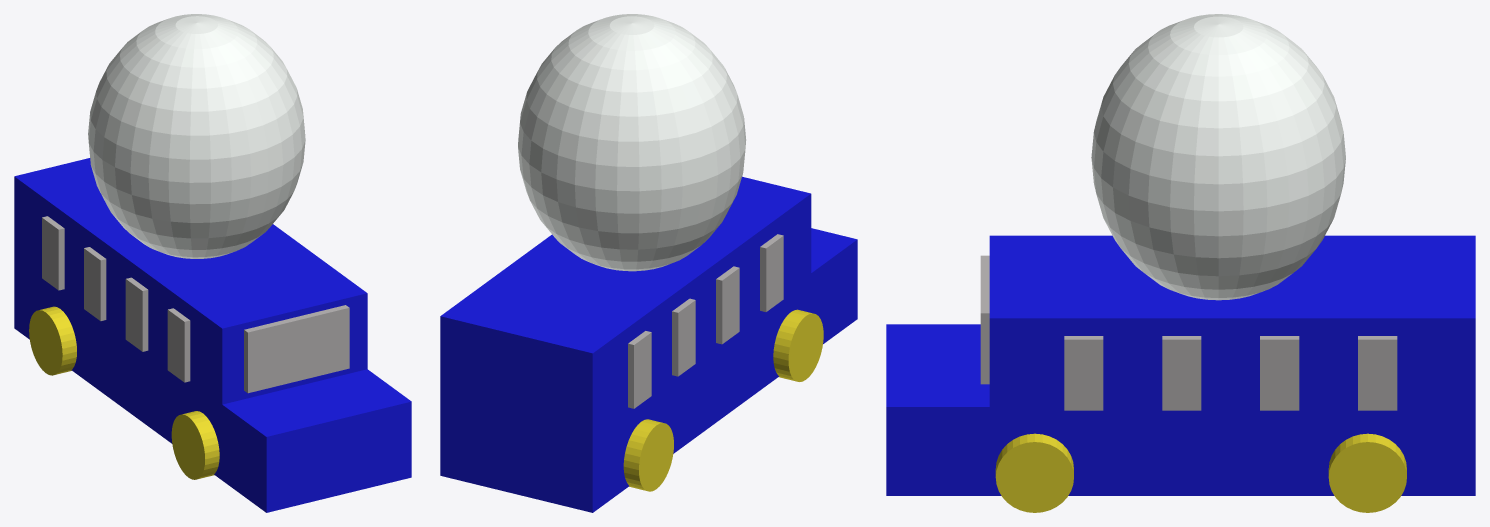
Rendered from BattleBuss.fbx.
The picture shows the model from 3 angles, left to right: view 1: azimuth 30°, elevation 25°; view 2: azimuth 150°, elevation 25°; view 3: azimuth 270°, elevation 25°; orthographic projection. The views are drawn at different scales.
Visible parts, largest first — view 1: Battle Bus Main, Sphere.001, Cube.008, Cylinder.003, Cylinder.002, Cube.006, Cube.007, Cube.004, Cube.005; view 2: Battle Bus Main, Sphere.001, Cylinder.003, Cylinder.002, Cube.005, Cube.006, Cube.004, Cube.007; view 3: Battle Bus Main, Sphere.001, Cylinder.001, Cylinder, Cube, Cube.001, Cube.002, Cube.003, Cube.008.
Boxes of the visible parts, x1,y1,x2,y2 form: Battle Bus Main: (14, 158, 411, 512); Sphere.001: (88, 14, 305, 258); Cube.008: (244, 305, 349, 393); Cylinder.003: (171, 411, 219, 479); Cylinder.002: (29, 306, 76, 375); Cube.006: (125, 277, 148, 351); Cube.007: (167, 308, 190, 382); Cube.004: (42, 216, 64, 290); Cube.005: (84, 247, 106, 320); Battle Bus Main: (440, 176, 857, 512); Sphere.001: (518, 14, 746, 271); Cylinder.003: (773, 309, 823, 381); Cylinder.002: (623, 419, 673, 491); Cube.005: (672, 298, 695, 376); Cube.006: (716, 266, 739, 344); Cube.004: (628, 331, 651, 408); Cube.007: (760, 234, 783, 311); Battle Bus Main: (886, 235, 1475, 495); Sphere.001: (1091, 14, 1345, 300); Cylinder.001: (1328, 433, 1406, 512); Cylinder: (995, 433, 1073, 512); Cube: (1064, 336, 1103, 410); Cube.001: (1162, 336, 1201, 410); Cube.002: (1260, 336, 1299, 410); Cube.003: (1358, 336, 1397, 410); Cube.008: (980, 255, 989, 384).
Size of the model in its own units: 26 by 49.45 by 60.16.
